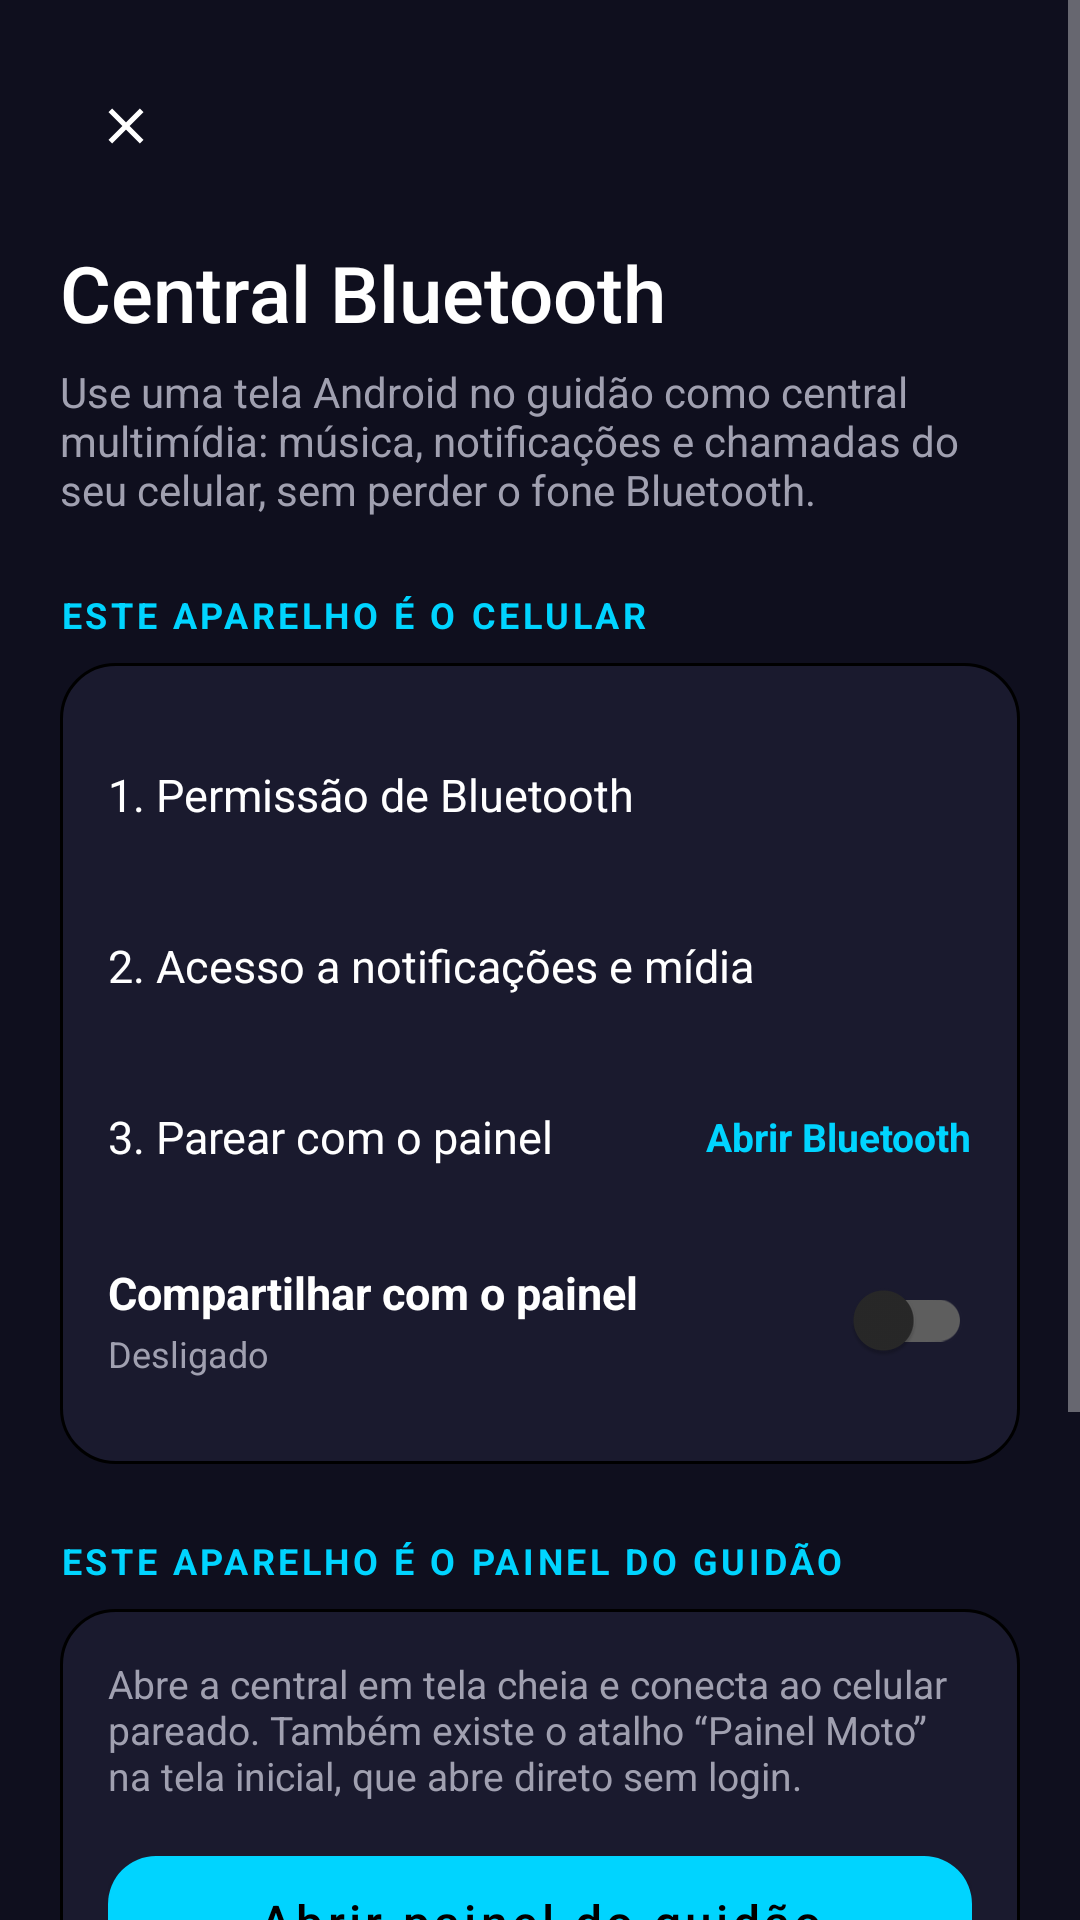

Named icons in this screenshot (1080×1920) and their centers, point (x, y):
Voltar: point (126, 126)
